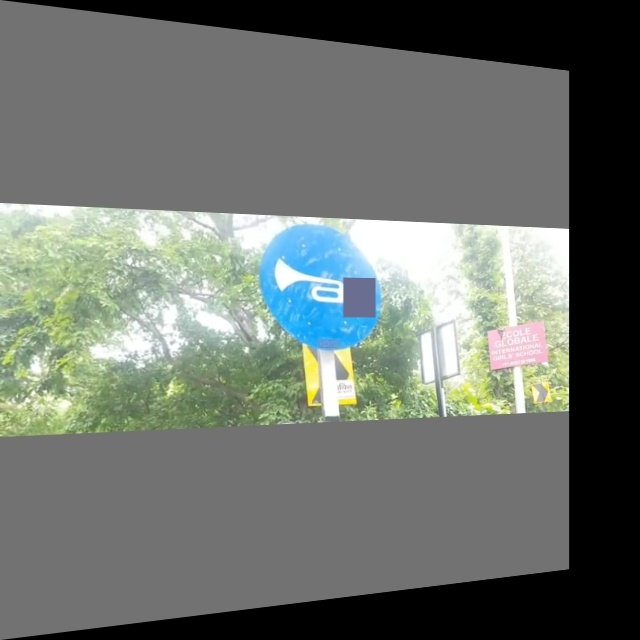Compulsory_Sound_Horn: (260, 224, 387, 346)
